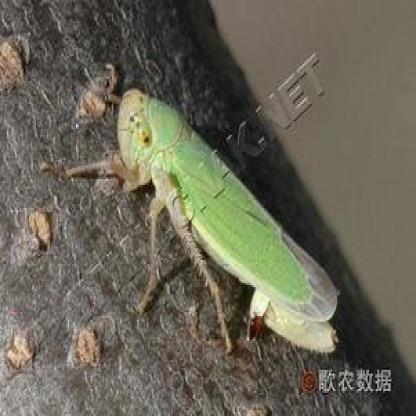Green-Leafhopper: (69, 80, 342, 365)
